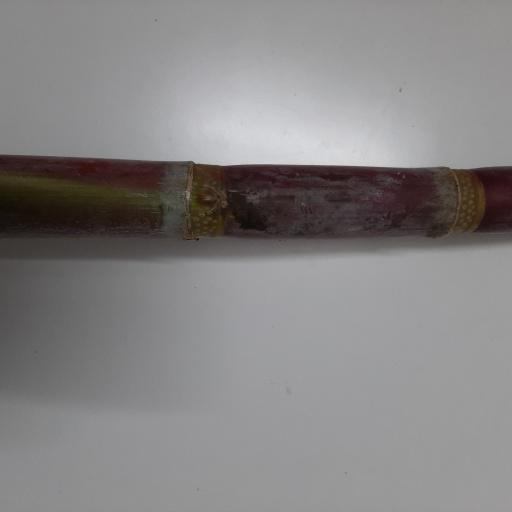Bud: (191, 187, 219, 209)
